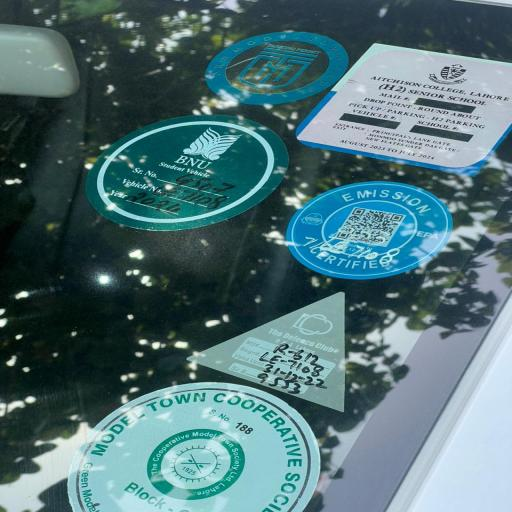bnu_sticker: (80, 107, 291, 238)
